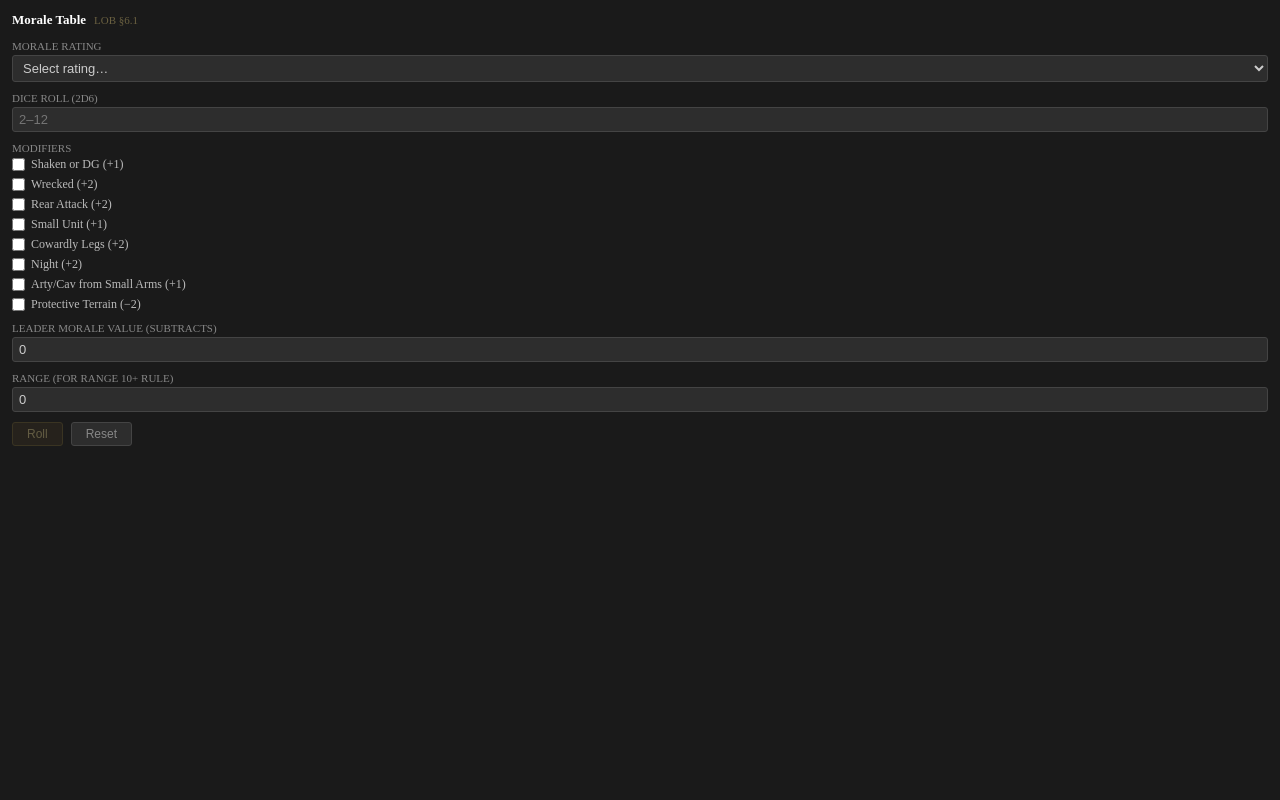
Test: MoralePanel › displays morale result after successful POST
Select "C" in the dropdown labelled "Morale Rating" at (640, 68), box x1=12 y1=55 x2=1268 y2=82
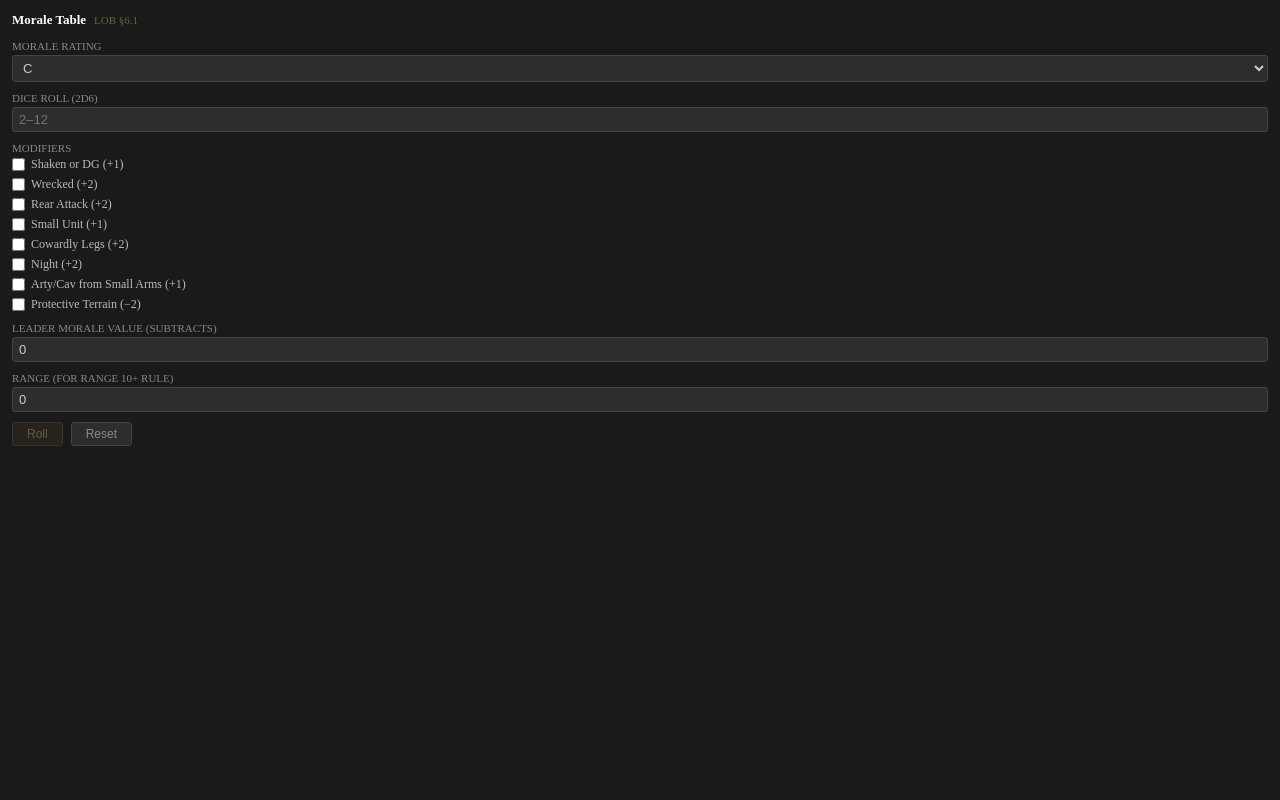
Type "8" into the number field with placeholder "2–12" at (640, 120), box x1=12 y1=107 x2=1268 y2=132
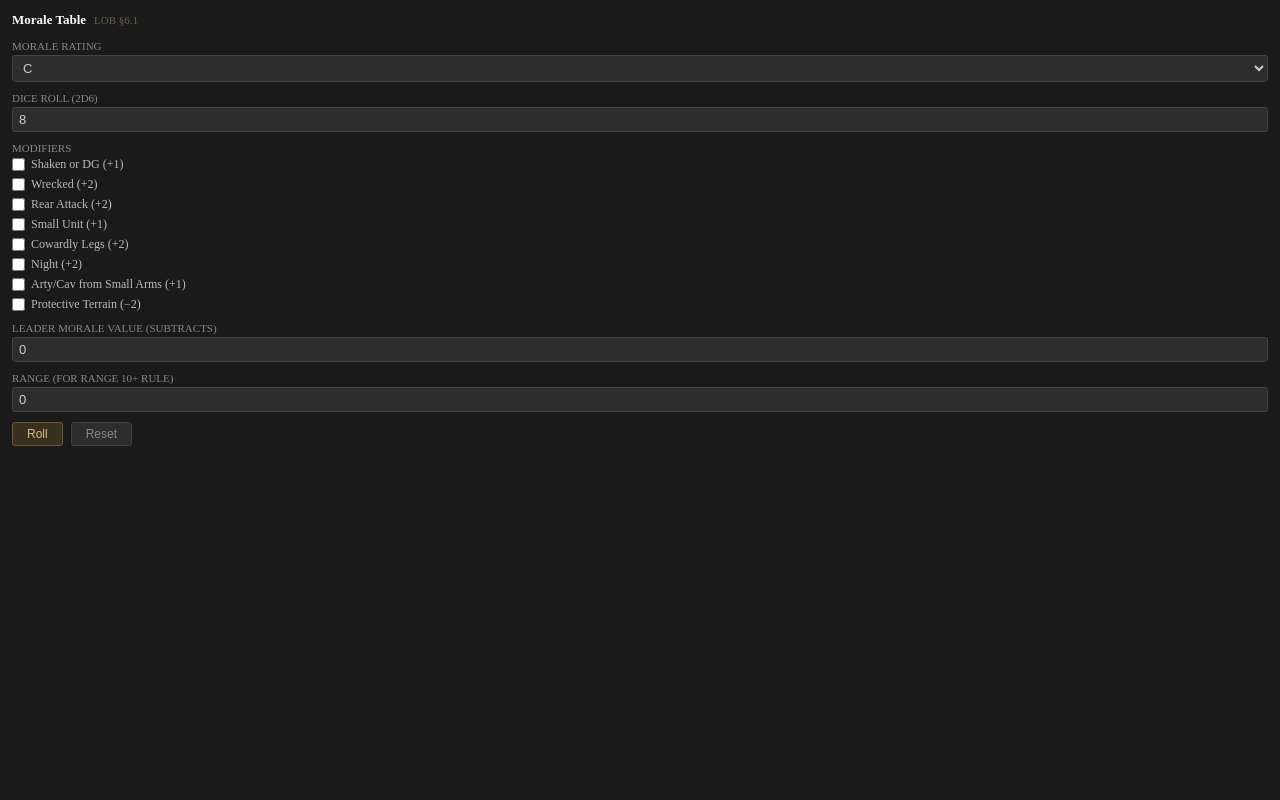
Click the button "Roll" at (37, 434), box x1=12 y1=422 x2=63 y2=446
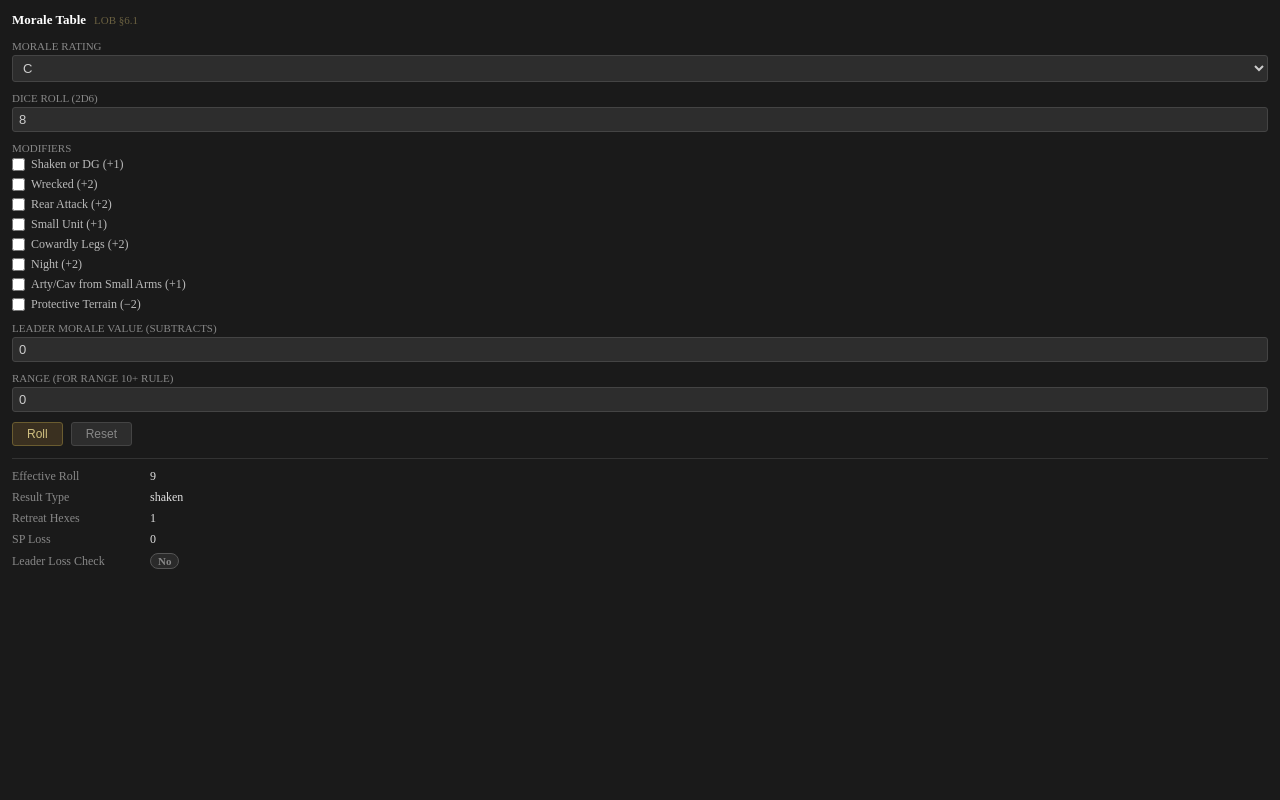
Expected: the text "Shaken" is shown, x1=31 y1=157 x2=123 y2=171
Expected: the text "Effective Roll" is shown, x1=12 y1=469 x2=79 y2=483
